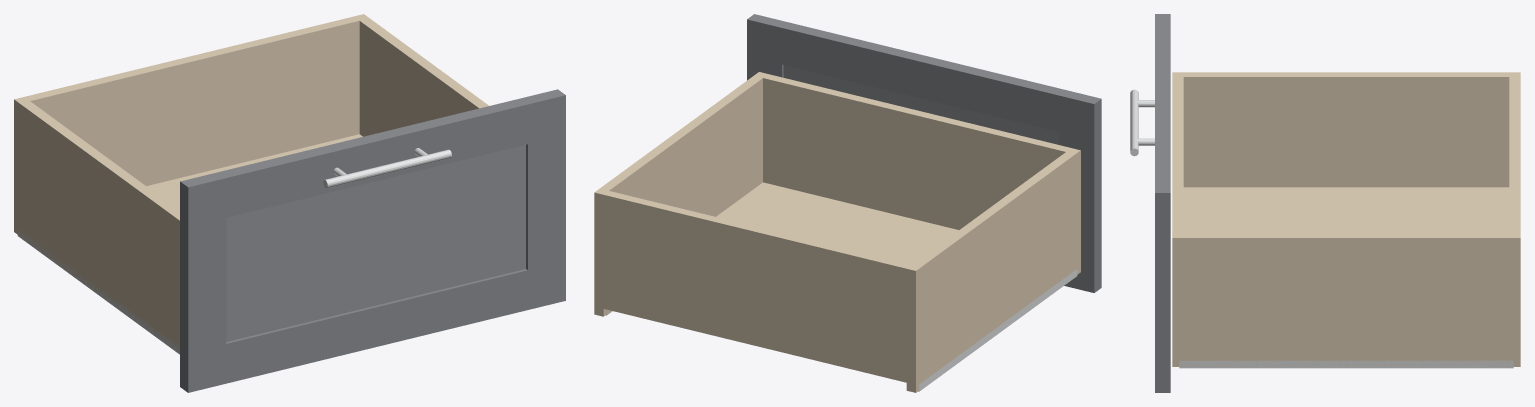
The model's file is skuff_K2_1.glb.
The picture shows the model from 3 angles, left to right: view 1: azimuth 30°, elevation 25°; view 2: azimuth 150°, elevation 25°; view 3: azimuth 270°, elevation 25°; orthographic projection. The views are drawn at different scales.
Bounding box in the file's own units: 596 × 310 × 549.
